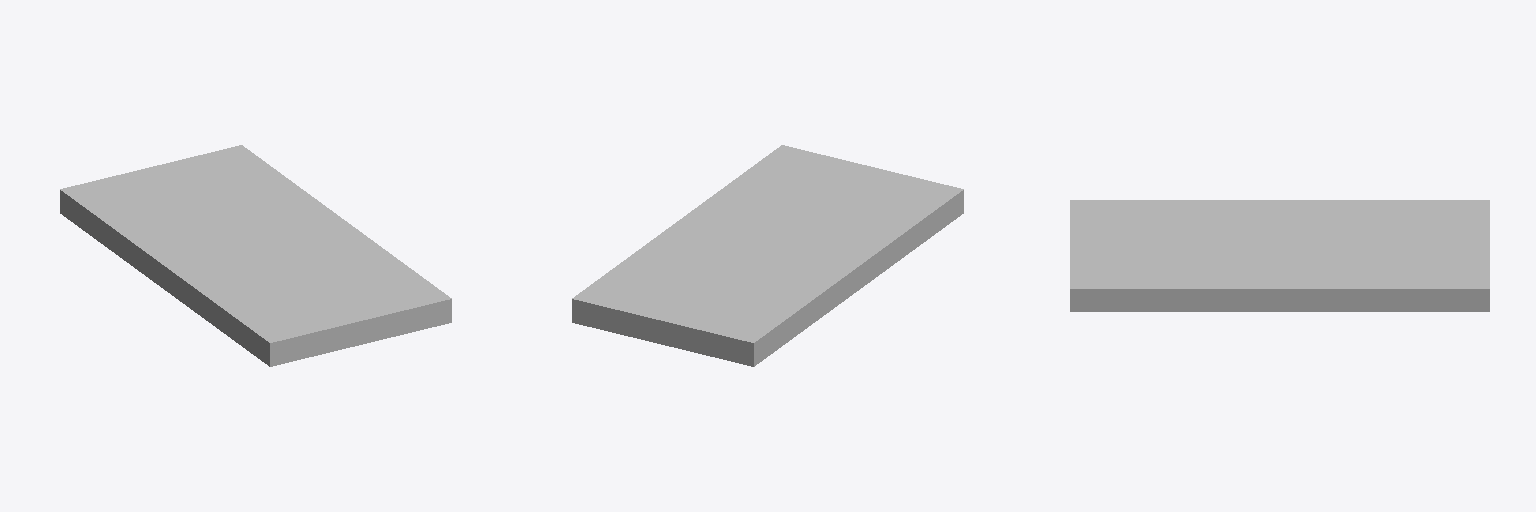
The model's file is Plate4_2x4.obj.
3 renders of one model, left to right at view 1: azimuth 30°, elevation 25°; view 2: azimuth 150°, elevation 25°; view 3: azimuth 270°, elevation 25°, orthographic.
Parts seen in each view (by area): view 1: Plate4_2x4_Cube.329; view 2: Plate4_2x4_Cube.329; view 3: Plate4_2x4_Cube.329.
Part boxes in pixels (x1,y1,x2,y2): Plate4_2x4_Cube.329: (60,145,451,366); Plate4_2x4_Cube.329: (572,145,963,366); Plate4_2x4_Cube.329: (1070,200,1489,311).
Size of the model in its own units: 2 by 0.25 by 4.